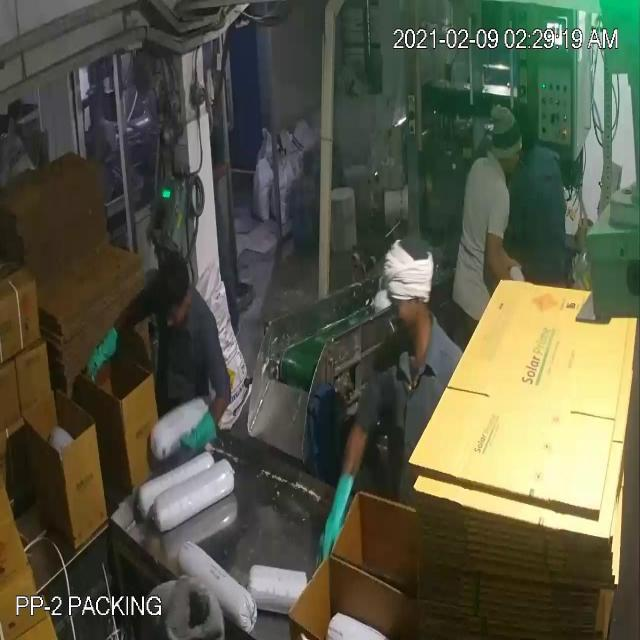Gloves: (46, 71, 504, 514)
